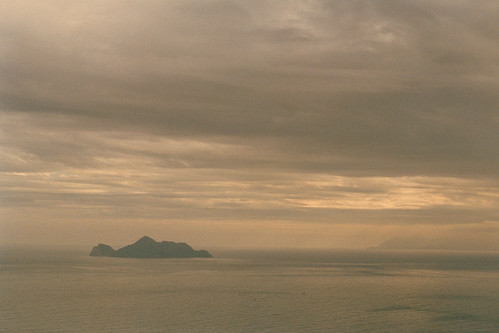turtleIslandLeft: (89, 236, 209, 260)
